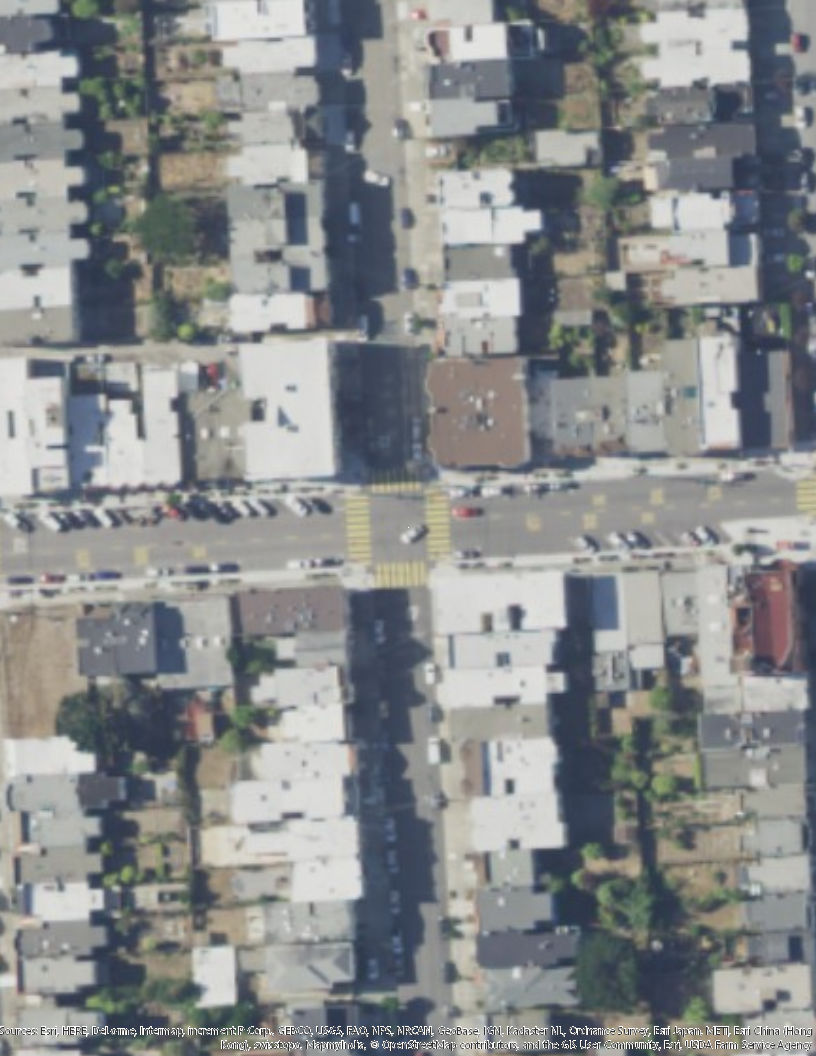zebracross: (346, 491, 375, 567), (421, 494, 451, 558), (369, 467, 423, 497), (375, 564, 427, 589), (796, 472, 816, 515)
